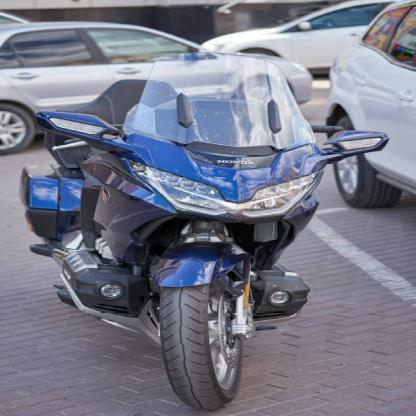Motorcycle: (17, 52, 386, 415)
